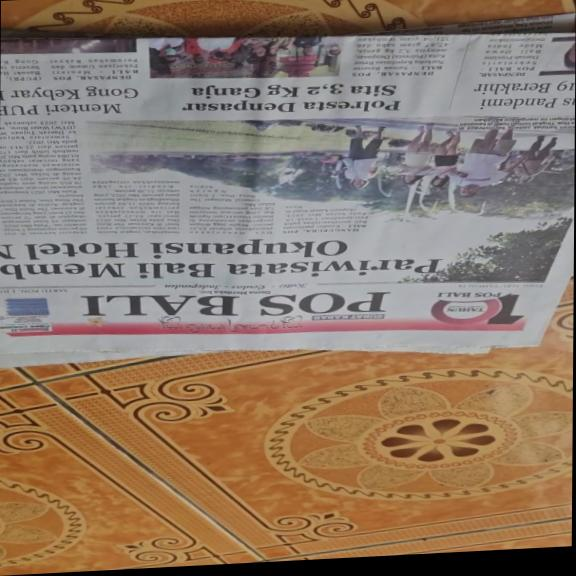Kertas: (7, 17, 575, 370)
